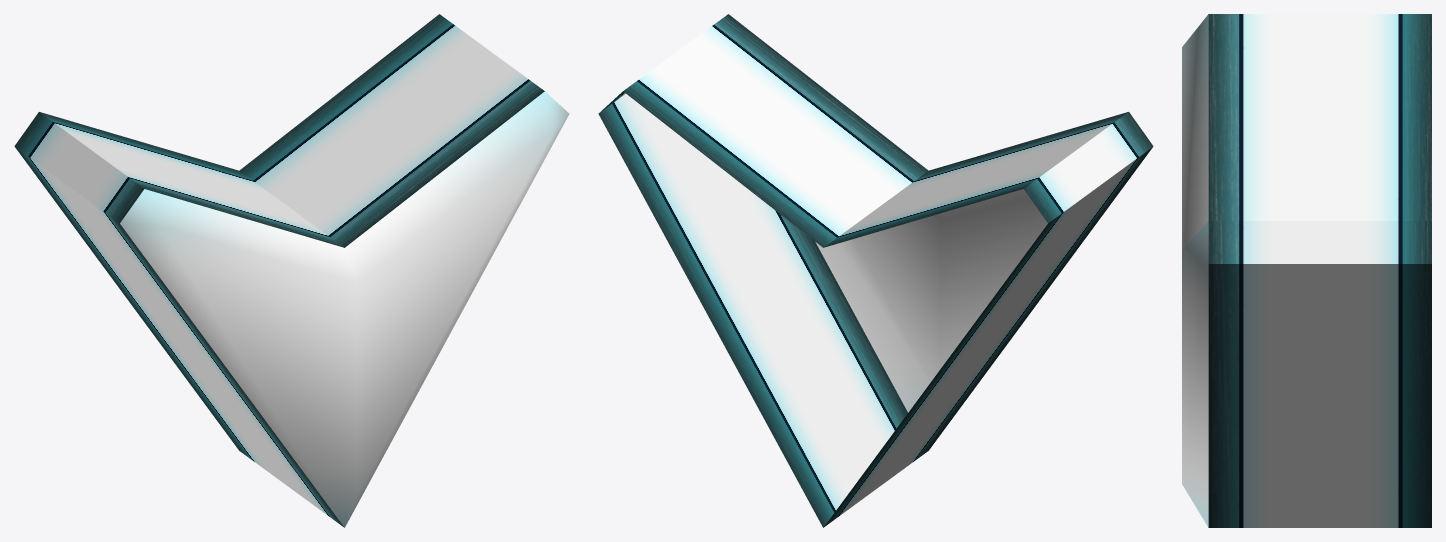
The model's file is M_Arrow_01.FBX.
The picture shows the model from 3 angles, left to right: view 1: azimuth 30°, elevation 25°; view 2: azimuth 150°, elevation 25°; view 3: azimuth 270°, elevation 25°; orthographic projection. The views are drawn at different scales.
Visible parts, largest first — view 1: M_Arrow_01; view 2: M_Arrow_01; view 3: M_Arrow_01.
Boxes of the visible parts, bbox=[...] form: M_Arrow_01: bbox=[14, 14, 569, 527]; M_Arrow_01: bbox=[598, 14, 1153, 527]; M_Arrow_01: bbox=[1182, 14, 1431, 527].
Size of the model in its own units: 5.91 by 4.87 by 2.68.
